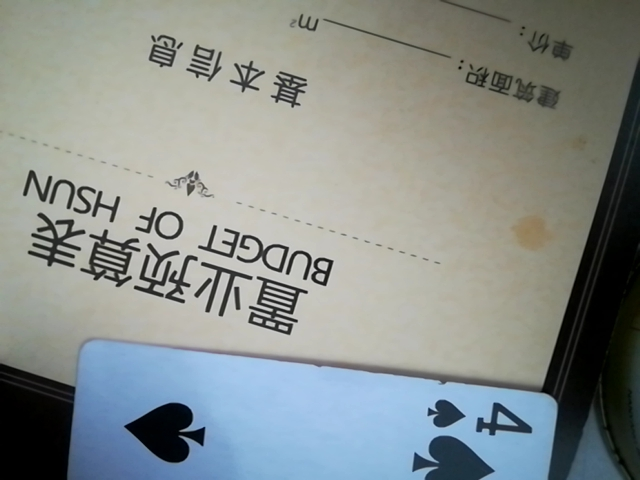ht 4: (48, 322, 570, 480)
